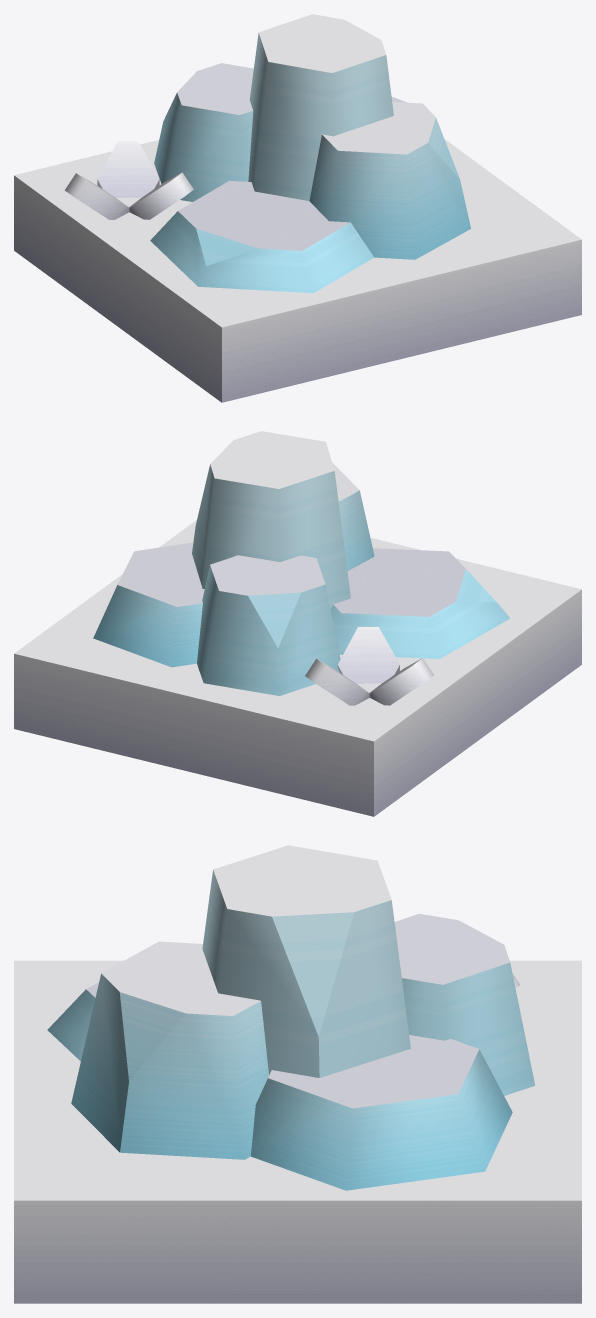
Rendered from tower-defense-kit--snow-tile-hill.glb.
3 views of the same model, one above another, from view 1: azimuth 30°, elevation 25°; view 2: azimuth 150°, elevation 25°; view 3: azimuth 270°, elevation 25° (orthographic). The views are drawn at different scales.
Visible parts, largest first — view 1: snow-tile-hill; view 2: snow-tile-hill; view 3: snow-tile-hill.
Part boxes in pixels (x1,y1,x2,y2): snow-tile-hill: (14,14,581,402); snow-tile-hill: (14,431,581,816); snow-tile-hill: (14,845,581,1303).
Bounding box in the file's own units: 1 × 0.6145 × 1.
Materials: 1 (1 with a texture image).
